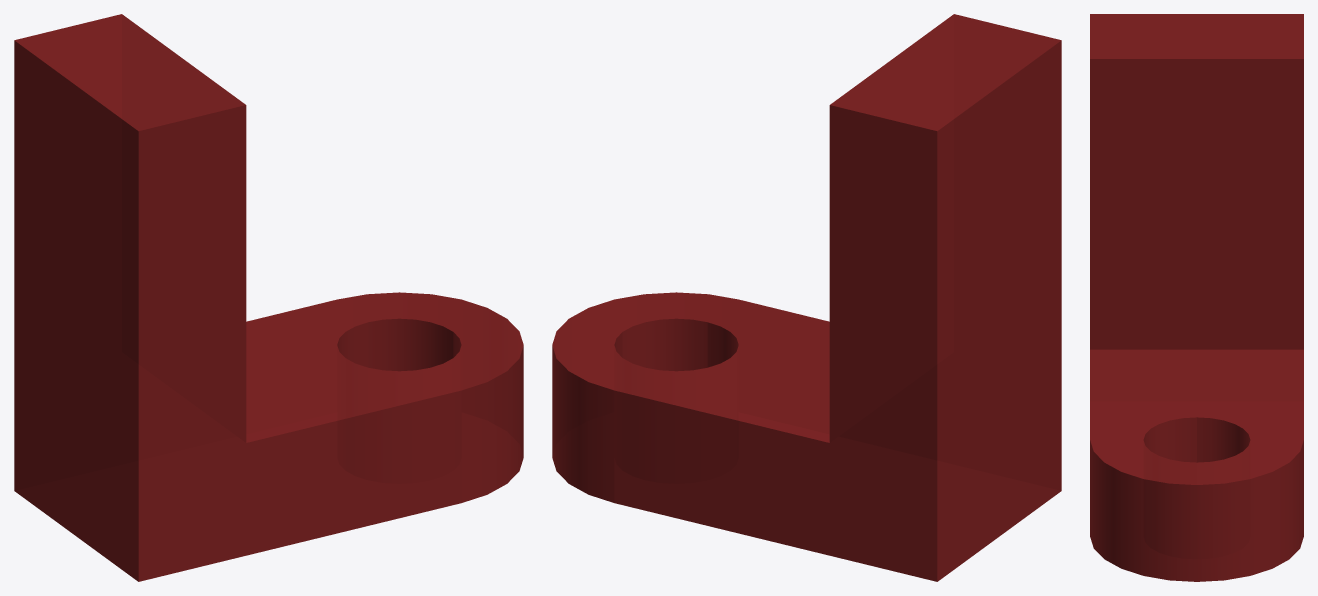
The picture shows the model from 3 angles, left to right: view 1: azimuth 30°, elevation 25°; view 2: azimuth 150°, elevation 25°; view 3: azimuth 270°, elevation 25°; orthographic projection. The views are drawn at different scales.
Visible parts, largest first — view 1: SketchUp (×2); view 2: SketchUp (×2); view 3: SketchUp (×2).
Boxes of the visible parts, box(x1,y1,x2,y2) form: SketchUp (×2): box(14, 14, 523, 581); SketchUp (×2): box(552, 14, 1061, 581); SketchUp (×2): box(1090, 14, 1303, 581).
Bounding box in the file's own units: 78.74 × 39.37 × 78.74.
